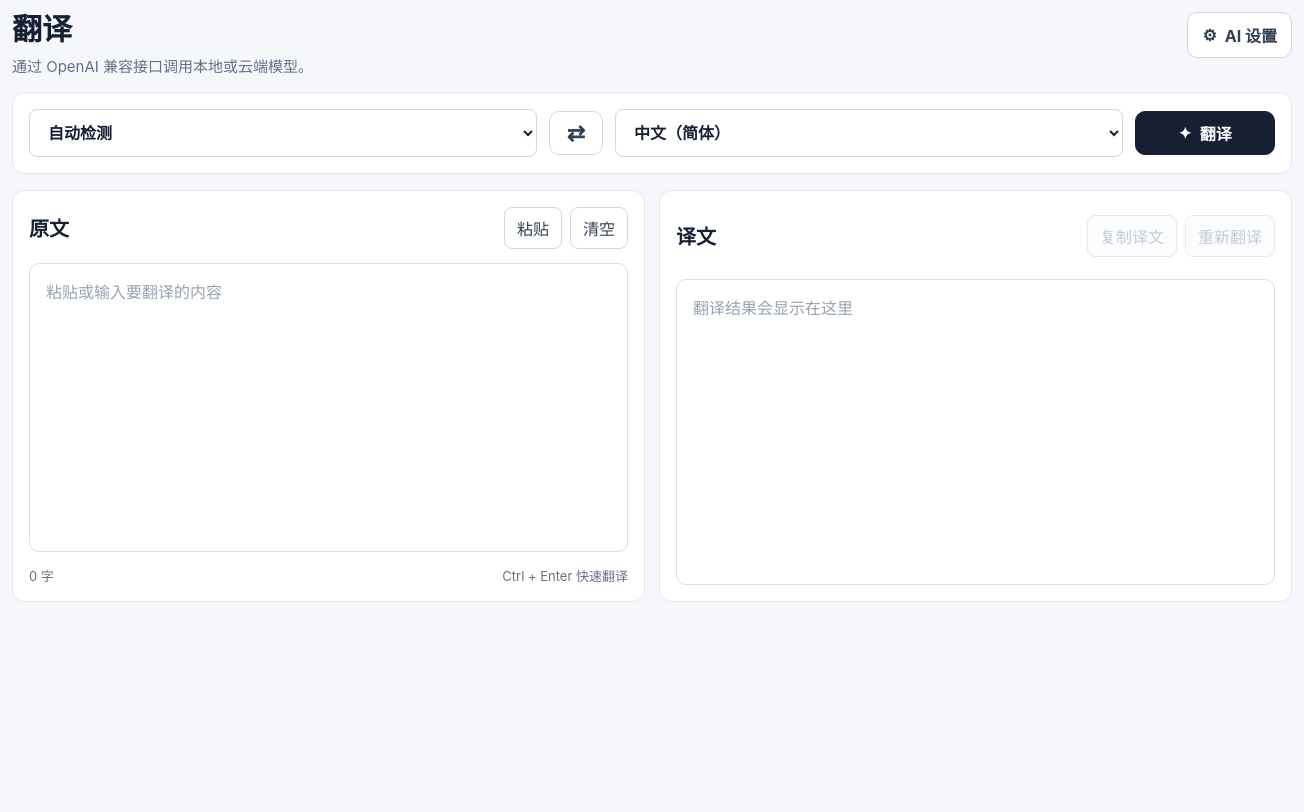
Test case: ignores an in-flight result after changing 交换语言
Type "hello" into the text box labelled "原文" at [328, 407], box [29,262,628,552]
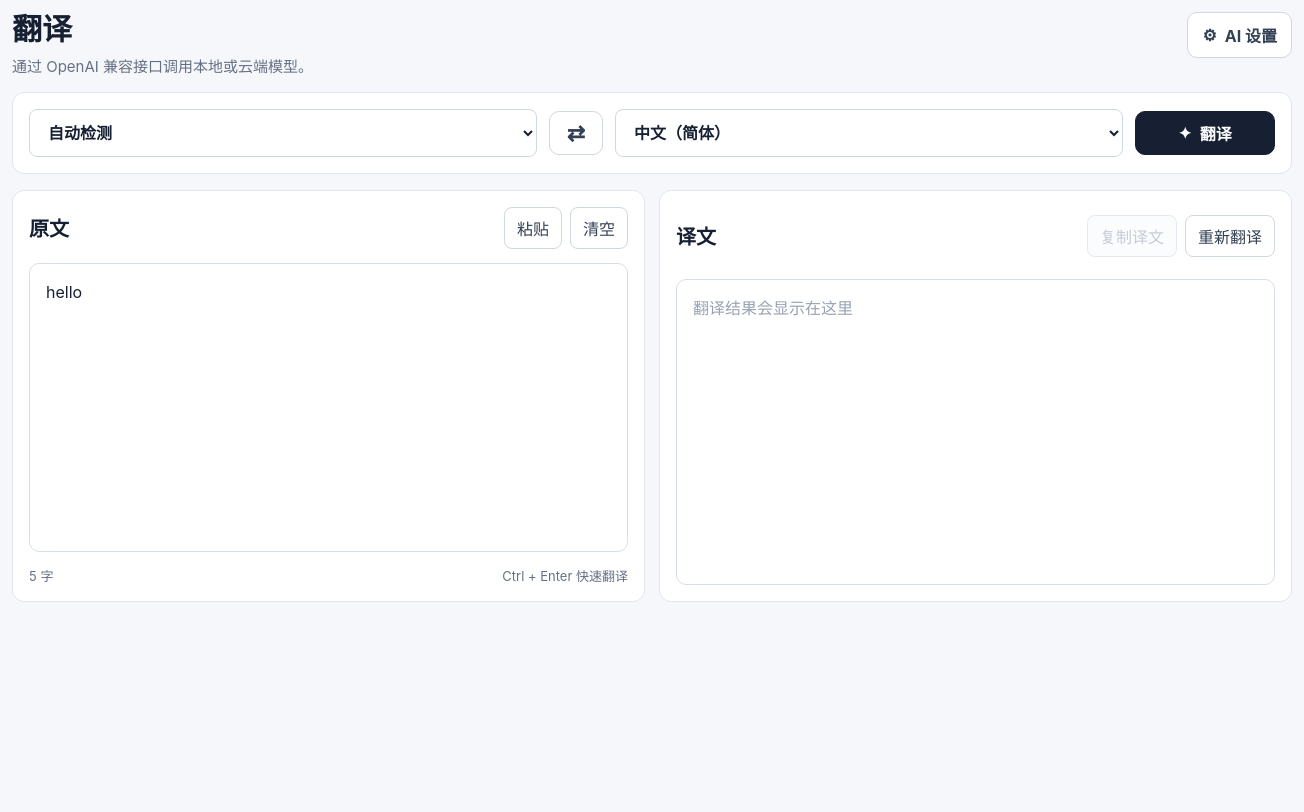
Click the button "✦ 翻译" at [1205, 132], box [1135,110,1275,154]
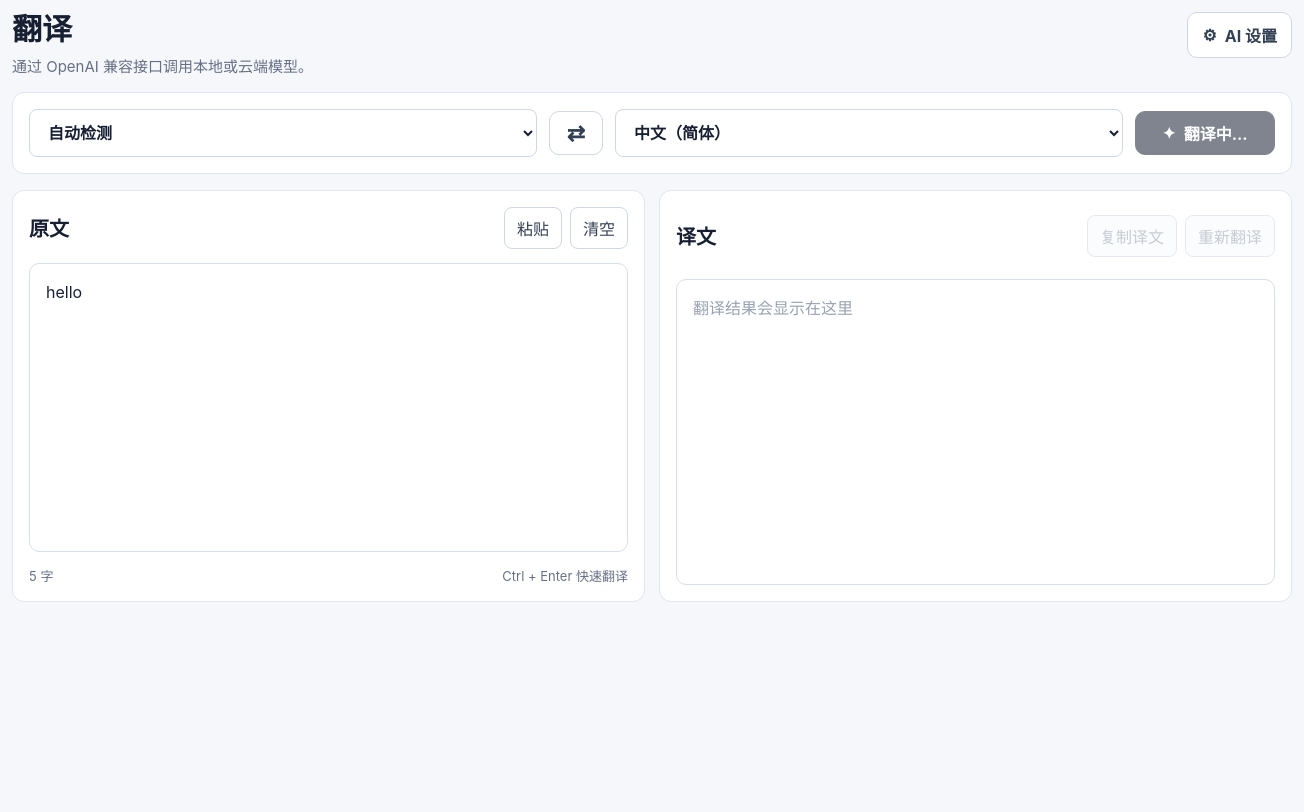
Click the button named "交换语言" at [576, 132], box [549,110,603,154]
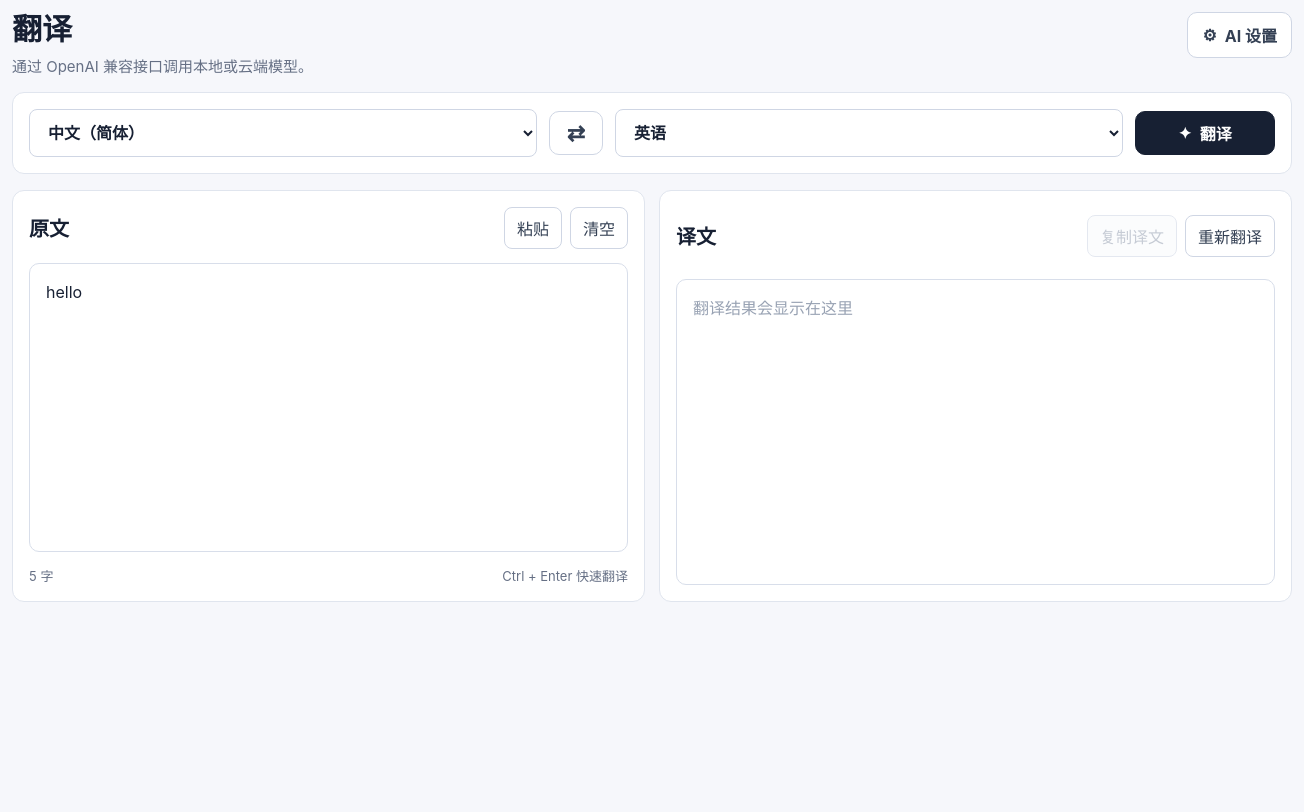
Check: the text box labelled "译文" is empty, box [676,279,1275,585]
Click the button "✦ 翻译" at [1205, 132], box [1135,110,1275,154]
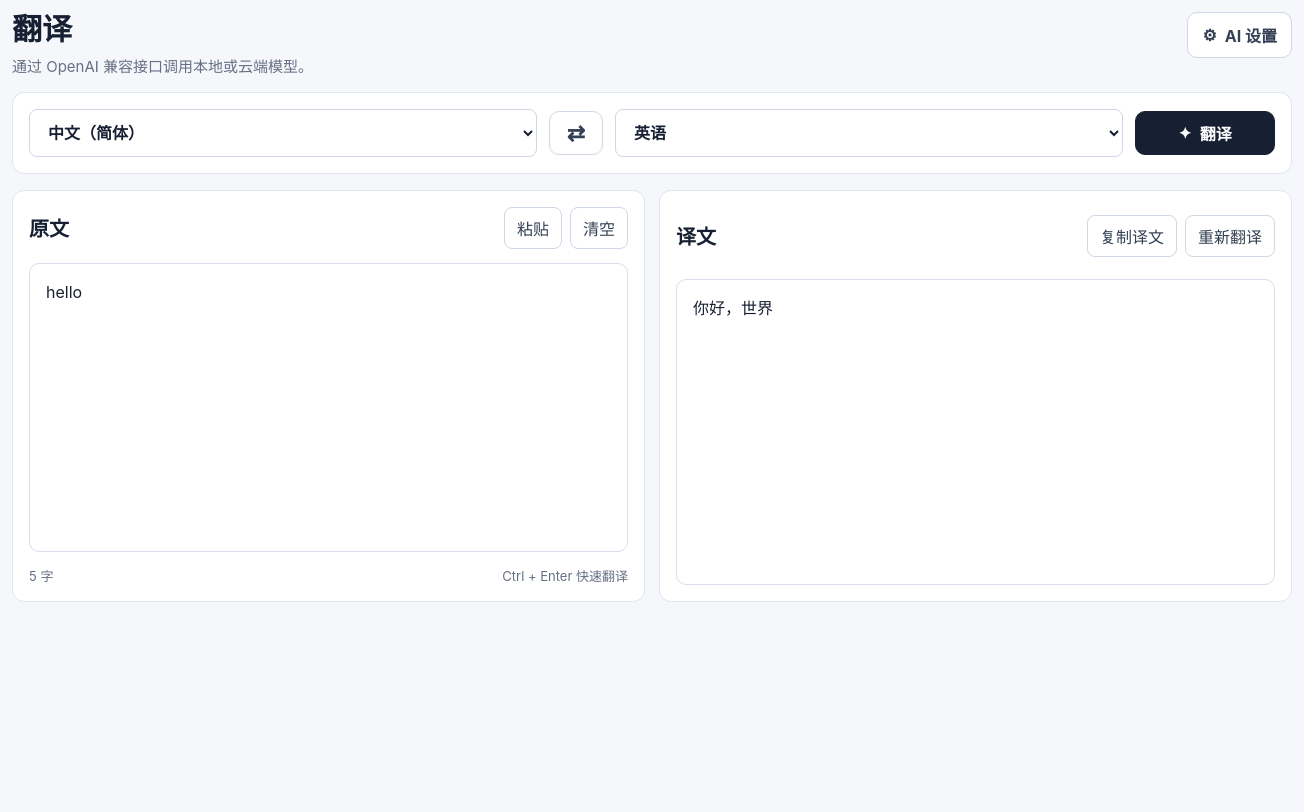
Check: the text box showing "你好，世界" is shown, box [676,279,1275,585]
